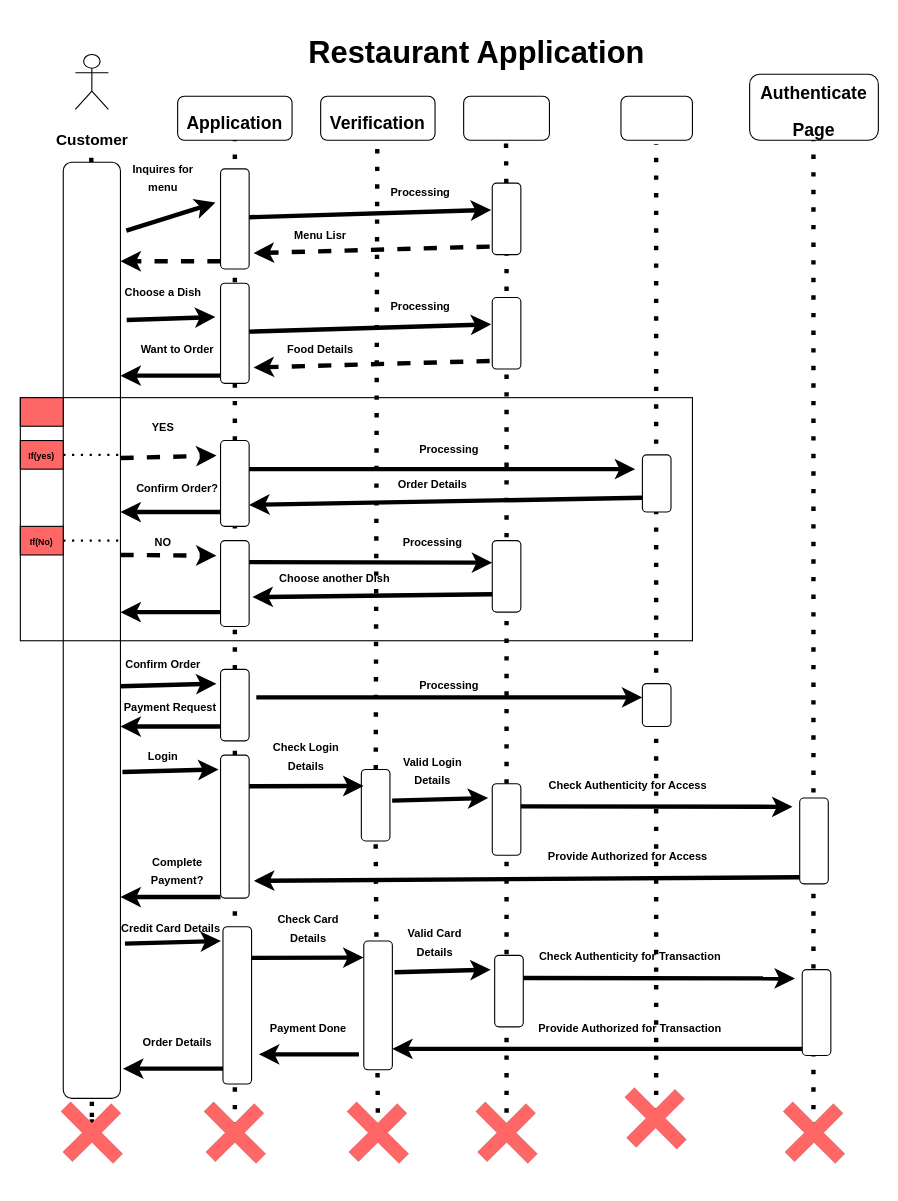
Some shapes in this 898 by 1201 pixel diagram are drawn without their labels. Each missing label, with the box of its shape:
Alternative: (19, 397, 63, 426)
Database: (463, 95, 549, 140)
Waiter: (620, 95, 692, 140)
